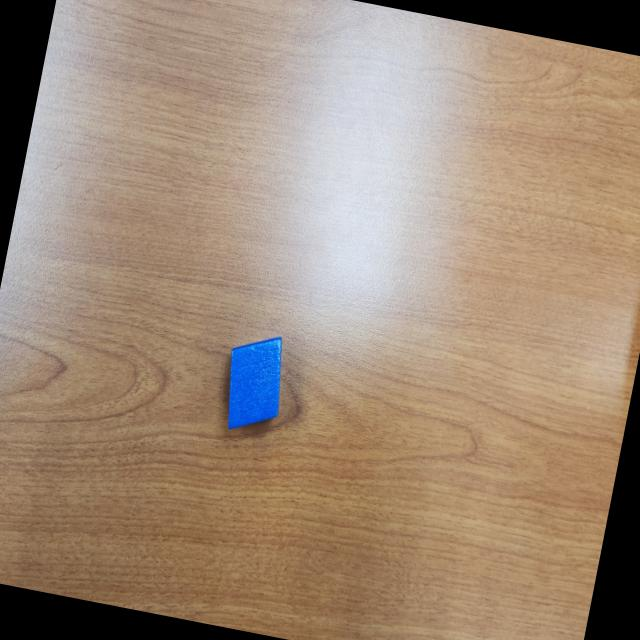blue: (216, 329, 292, 438)
